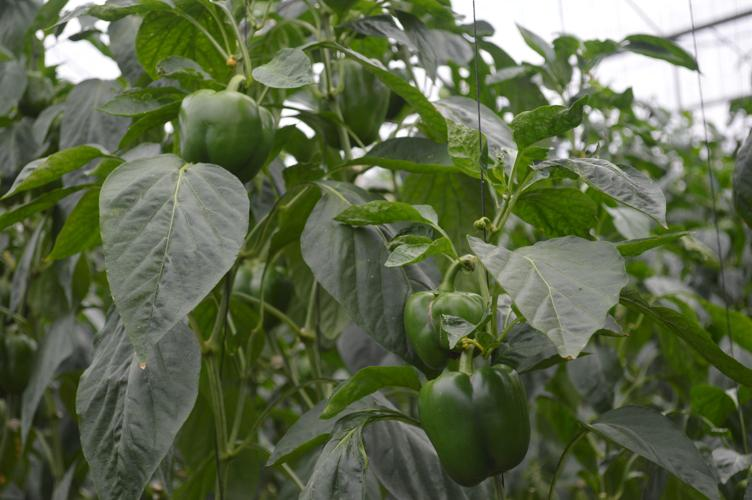BellPepper: (409, 367, 541, 489), (168, 82, 277, 194), (302, 57, 395, 163), (397, 280, 491, 373)
